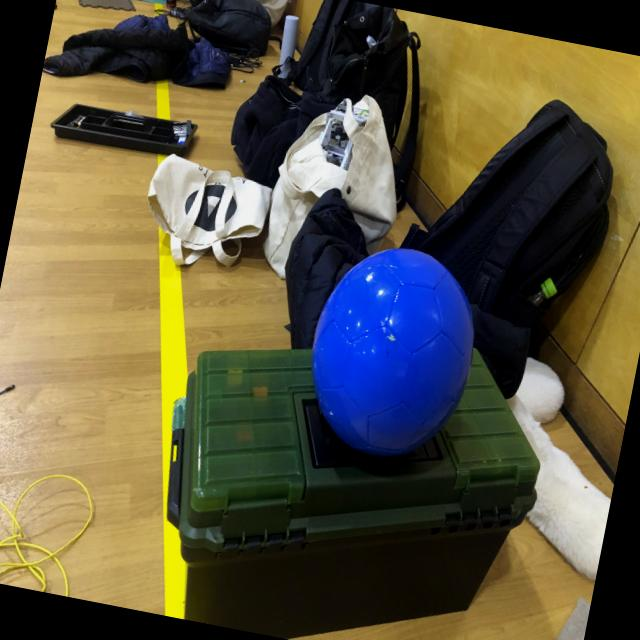blue_ball: (292, 236, 489, 478)
